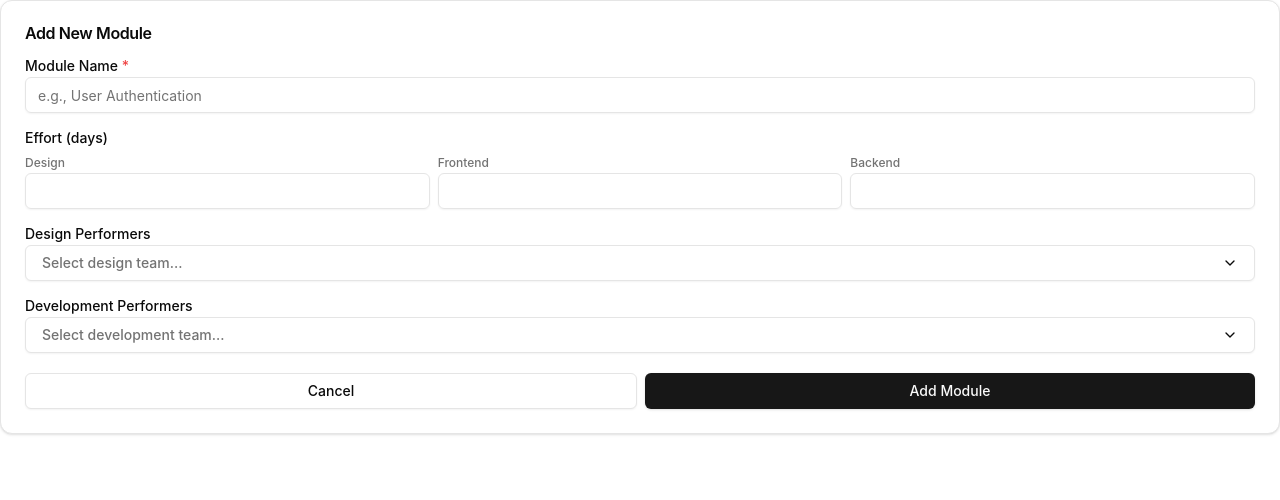
Scenario: AddModuleForm › Form Reset › should clear errors after successful submission
This screenshot has width=1280, height=500.
# First, trigger validation error
Click the button "Add Module" at x=950, y=391, box [645,373,1255,409]
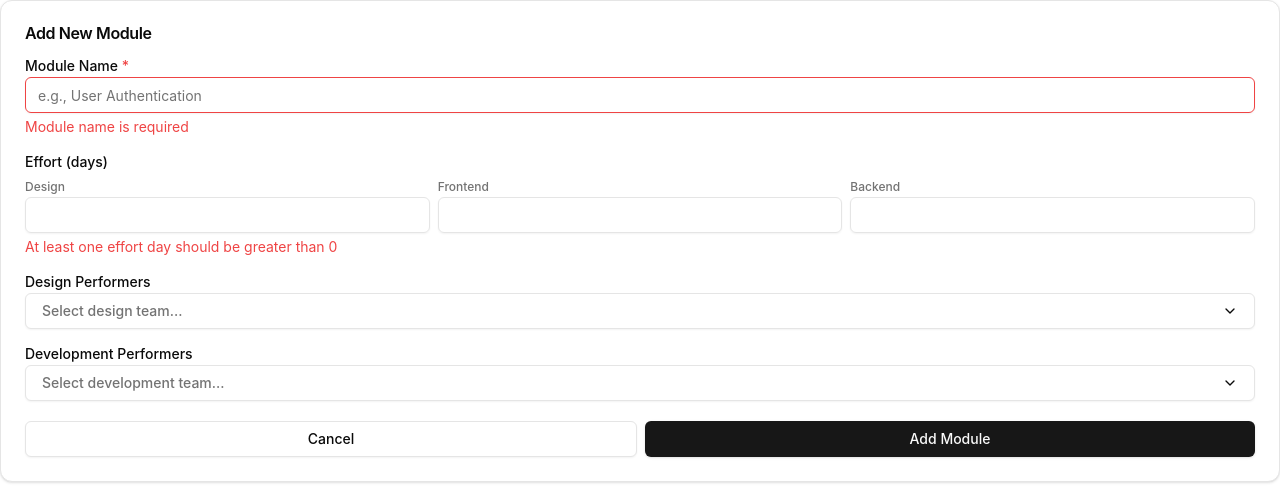
expect the text "Module name is required" is shown: met, box [25,118,189,135]
Type "Test Module" into the field with placeholder "e.g., User Authentication" at x=640, y=95, box [25,77,1255,113]
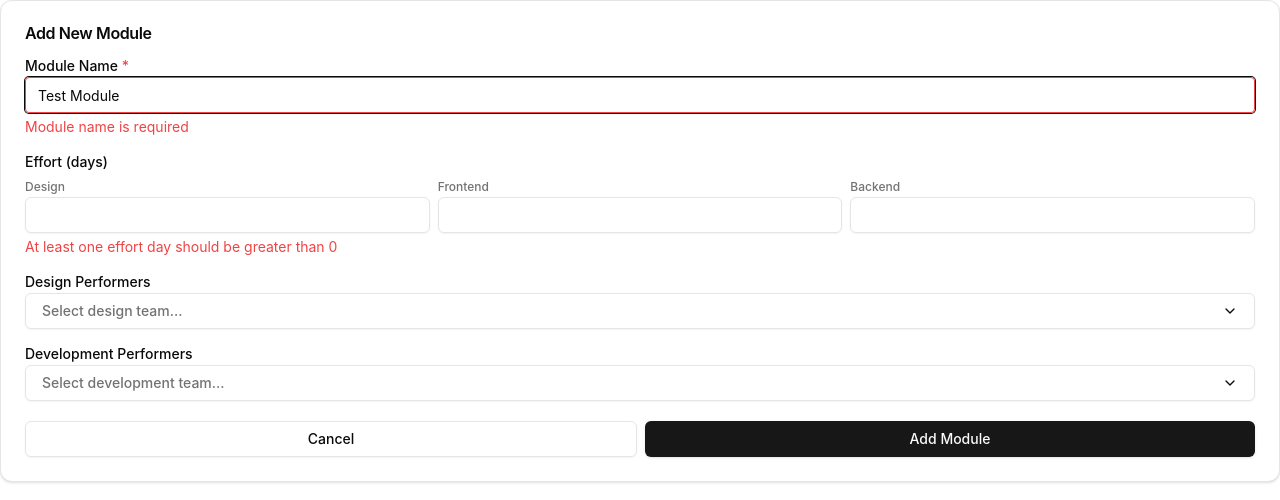
Type "5" into the 1st number field at x=227, y=215, box [25,197,430,233]
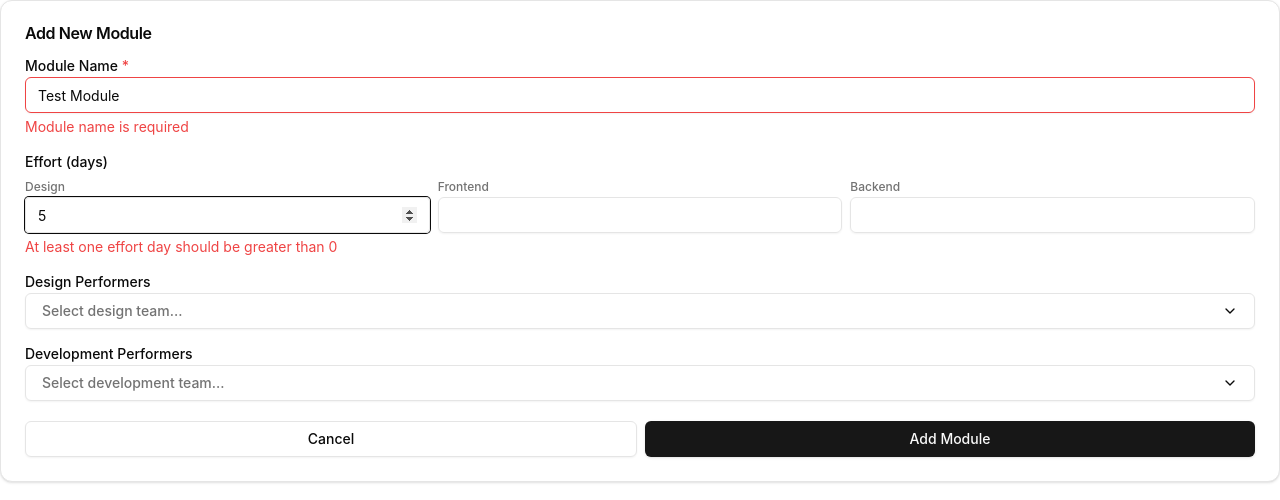
Click the button "Add Module" at x=950, y=439, box [645,421,1255,457]
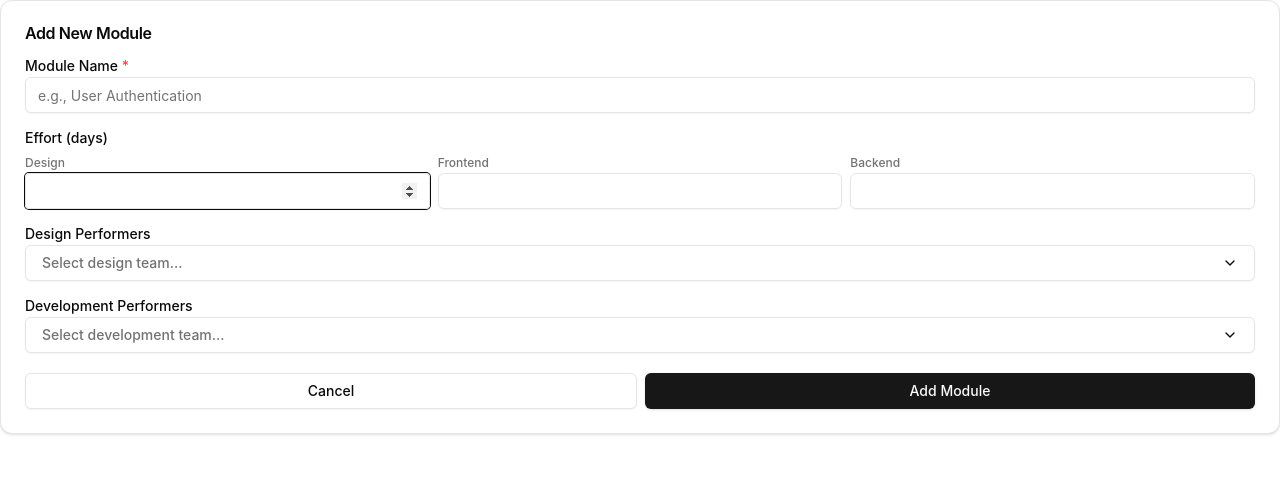
expect the text "Module name is required" is gone: met
